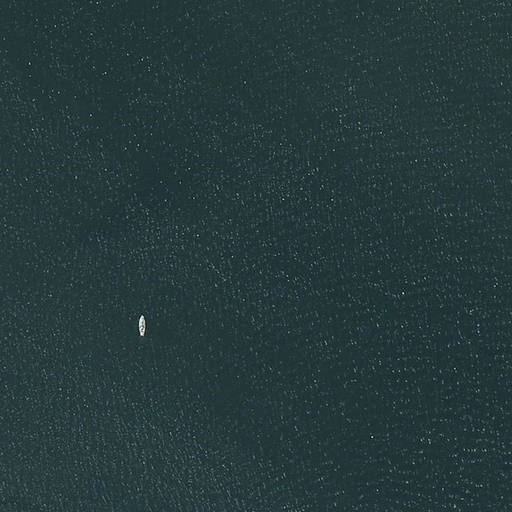ship: (134, 311, 149, 340)
